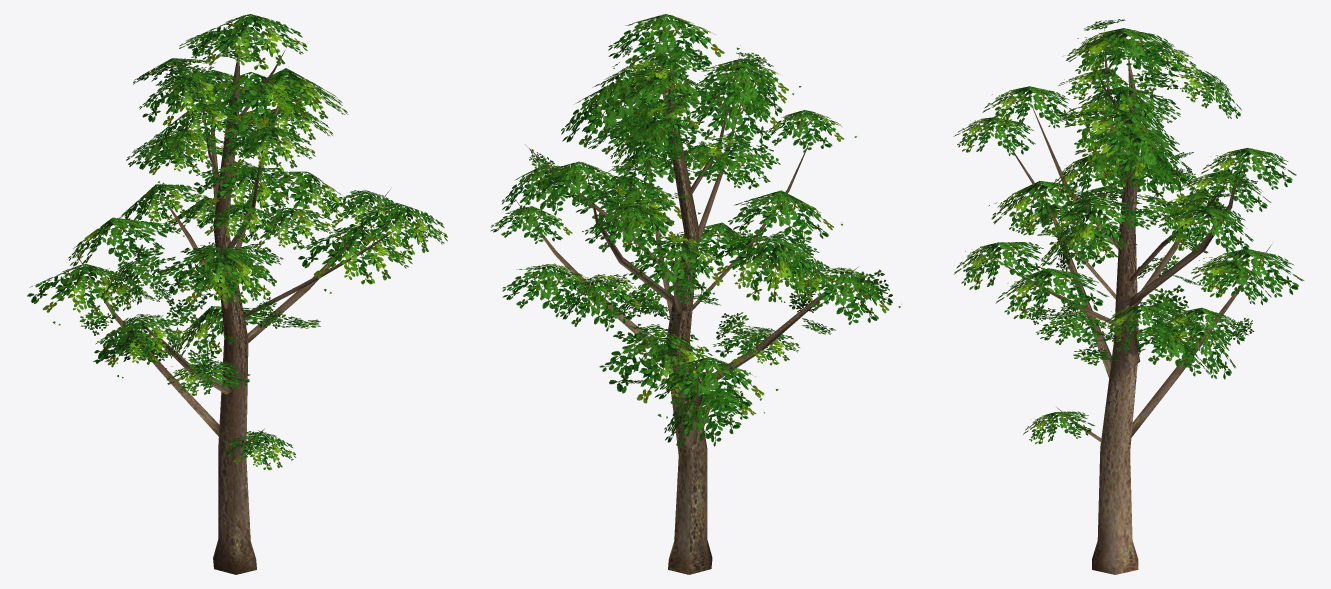
File: shu01.FBX
3 views of the same model, side by side, from view 1: azimuth 30°, elevation 25°; view 2: azimuth 150°, elevation 25°; view 3: azimuth 270°, elevation 25° (orthographic).
Visible parts, largest first — view 1: a24; view 2: a24; view 3: a24.
Part boxes in pixels (x1,y1,x2,y2): a24: (27, 14, 447, 574); a24: (490, 14, 900, 574); a24: (953, 19, 1304, 574).
Bounding box in the file's own units: 4.29 × 6.09 × 3.8.
1 material, 1 textured.
